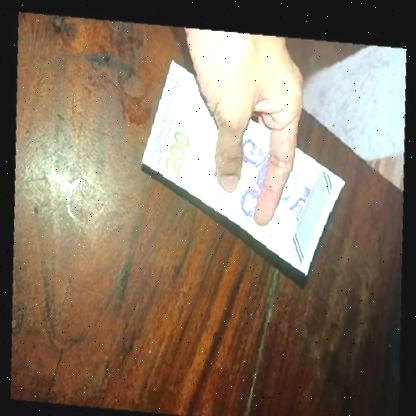two_hundred-front-vef: (134, 44, 350, 280)
